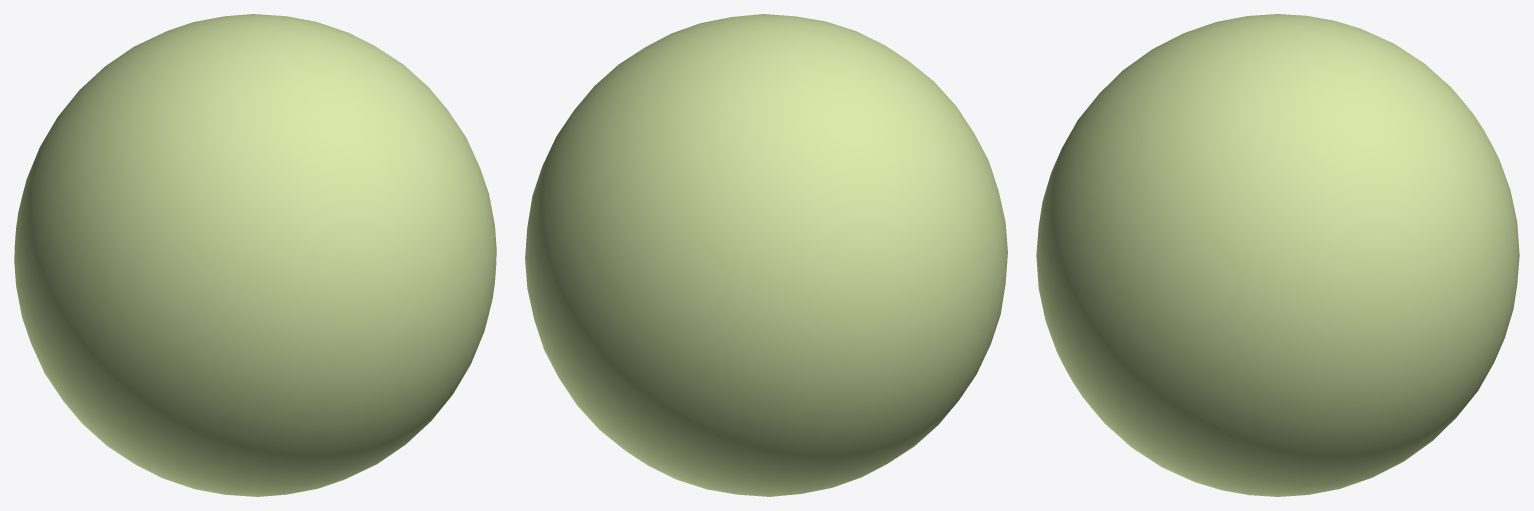
The model's file is geosphere_glass.obj.
The picture shows the model from 3 angles, left to right: view 1: azimuth 30°, elevation 25°; view 2: azimuth 150°, elevation 25°; view 3: azimuth 270°, elevation 25°; orthographic projection.
Visible parts, largest first — view 1: GeoSphere001; view 2: GeoSphere001; view 3: GeoSphere001.
Part boxes in pixels (left/top/right/bottom): GeoSphere001: left=14, top=14, right=496, bottom=496; GeoSphere001: left=525, top=14, right=1007, bottom=496; GeoSphere001: left=1036, top=14, right=1519, bottom=496.
Bounding box in the file's own units: 2 × 2 × 2.
